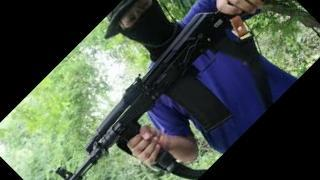larga: (56, 0, 264, 180)
